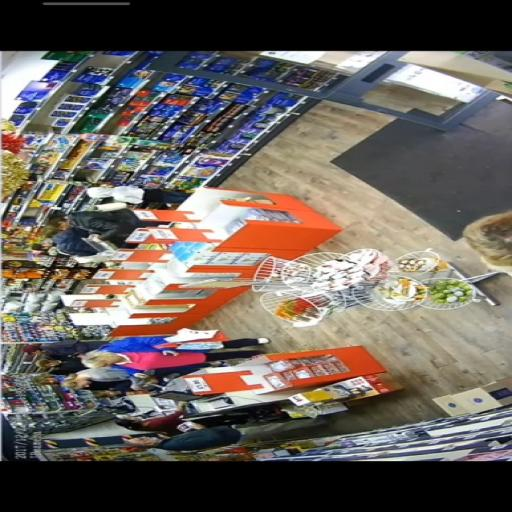workers: (86, 350, 268, 376), (117, 329, 273, 355), (24, 334, 140, 368), (58, 367, 184, 395), (119, 424, 243, 452), (60, 203, 143, 242), (114, 410, 231, 437), (85, 183, 170, 210), (48, 226, 112, 259)
